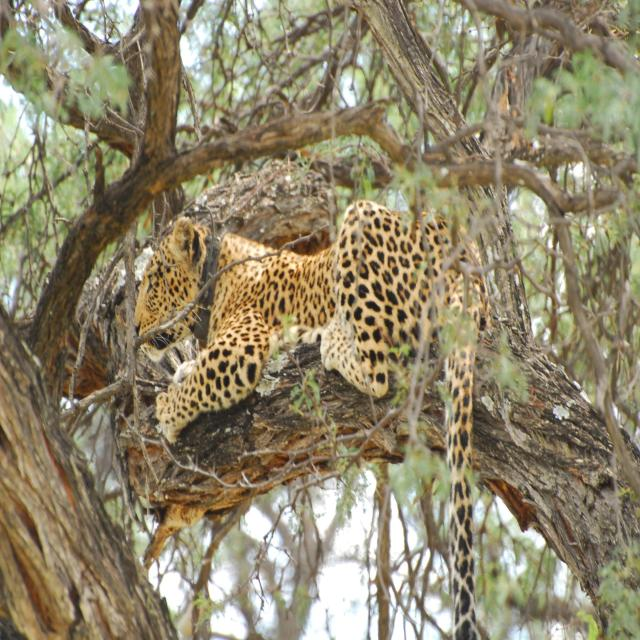Leopard: (124, 200, 481, 640)
